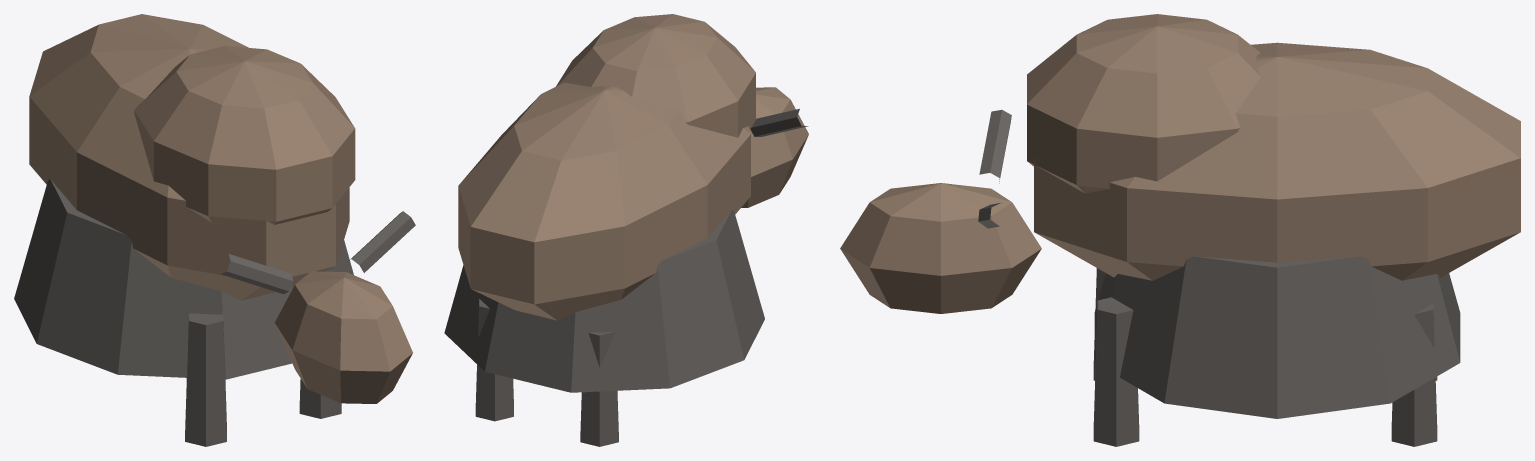
The picture shows the model from 3 angles, left to right: view 1: azimuth 30°, elevation 25°; view 2: azimuth 150°, elevation 25°; view 3: azimuth 270°, elevation 25°; orthographic projection. The views are drawn at different scales.
Parts seen in each view (by area): view 1: WB_yak_yakBrown_d; view 2: WB_yak_yakBrown_d; view 3: WB_yak_yakBrown_d.
Boxes of the visible parts, x1,y1,x2,y2 form: WB_yak_yakBrown_d: [14, 14, 415, 446]; WB_yak_yakBrown_d: [444, 14, 808, 446]; WB_yak_yakBrown_d: [840, 14, 1520, 446].
Bounding box in the file's own units: 1.6 × 1.74 × 2.83.
